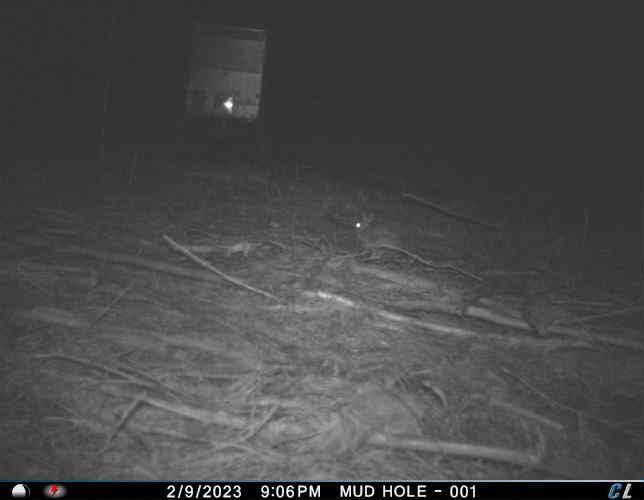Rabbit: (349, 204, 399, 261)
